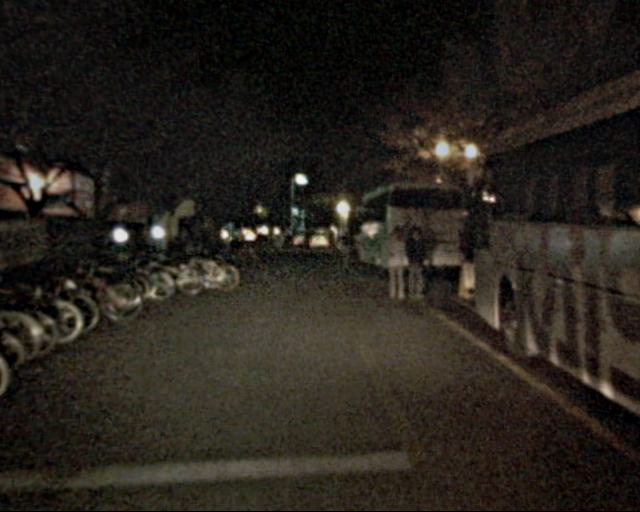person: (382, 227, 411, 298), (400, 227, 429, 298), (333, 224, 354, 276)
